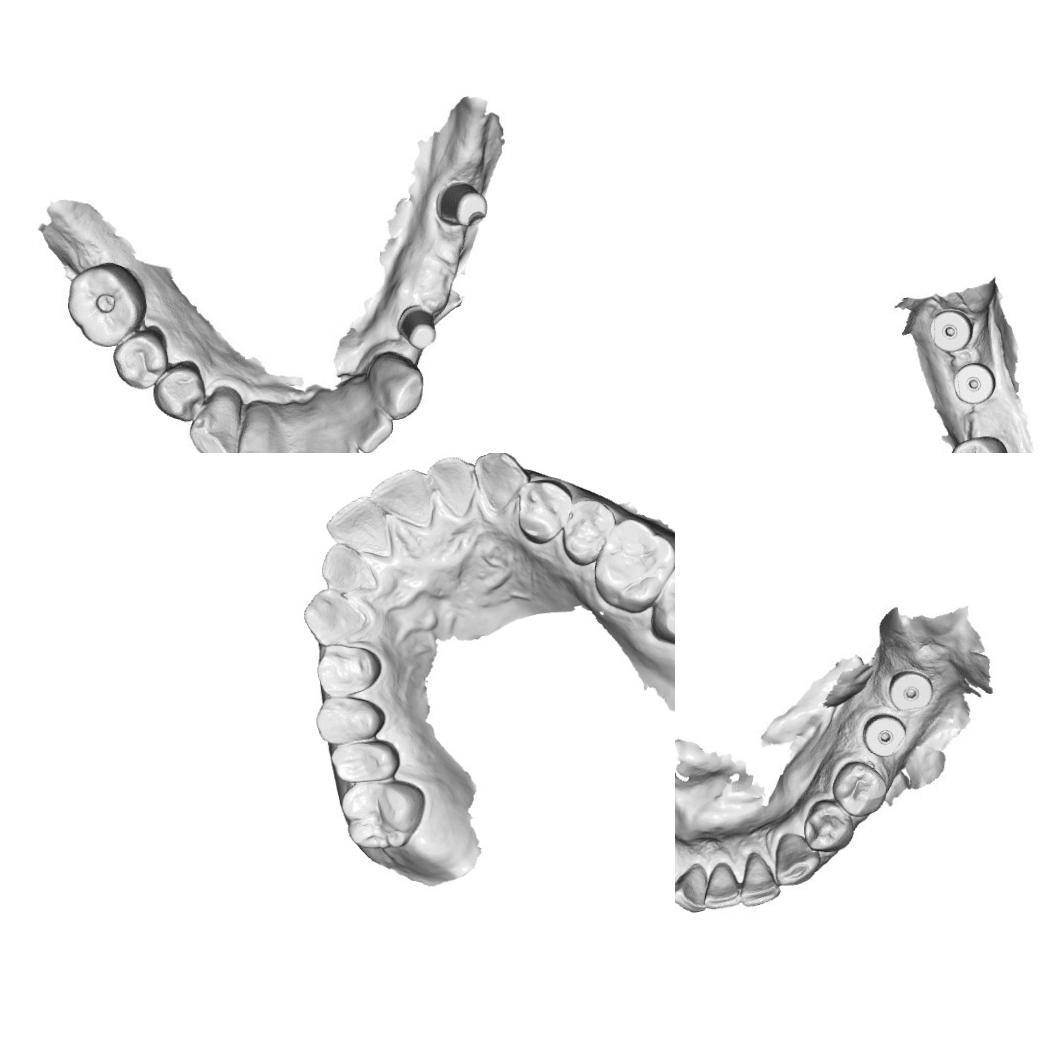abutment: (432, 175, 498, 236), (396, 305, 442, 353)
canine: (298, 586, 372, 648), (470, 453, 528, 514), (368, 359, 422, 419), (190, 390, 239, 453), (771, 830, 820, 892)
implant: (860, 712, 909, 758), (886, 666, 932, 712), (952, 361, 996, 405), (930, 307, 971, 350)
incisor: (324, 493, 394, 565), (367, 466, 437, 530), (425, 453, 478, 521), (319, 540, 379, 594), (345, 384, 389, 450), (741, 855, 778, 909), (241, 404, 281, 453), (704, 864, 741, 914), (675, 860, 708, 913), (318, 420, 356, 453), (280, 434, 317, 453)
molar: (587, 516, 675, 616), (65, 261, 144, 348), (336, 776, 426, 852), (328, 738, 402, 785), (649, 557, 675, 648)
premolar: (556, 496, 616, 567), (313, 642, 383, 699), (515, 478, 574, 545), (312, 693, 387, 743), (831, 760, 891, 819), (801, 799, 851, 852), (156, 364, 199, 419), (115, 336, 161, 386), (944, 435, 1004, 453)
